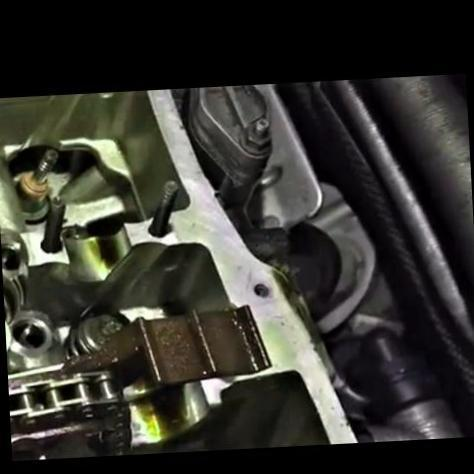hole: (252, 280, 269, 298)
